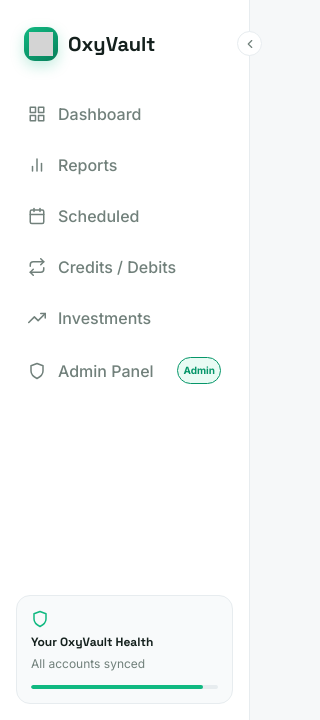
Sidebar › collapses to icons only and expands again
The image size is (320, 720).
Click the button named "Collapse sidebar" at (250, 44), box top-left (237, 31), bottom-right (262, 56)
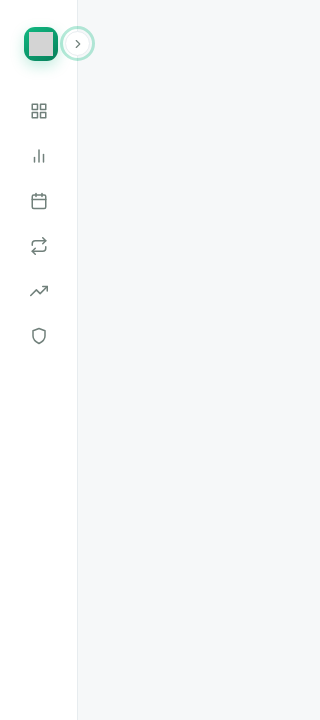
Expected: the link named "Dashboard" is shown, top-left (30, 102), bottom-right (48, 120)
Expected: the text "Vault Health" is gone
Expected: the text "Dashboard" is gone
Click the button named "Expand sidebar" at (78, 44), box top-left (65, 31), bottom-right (90, 56)
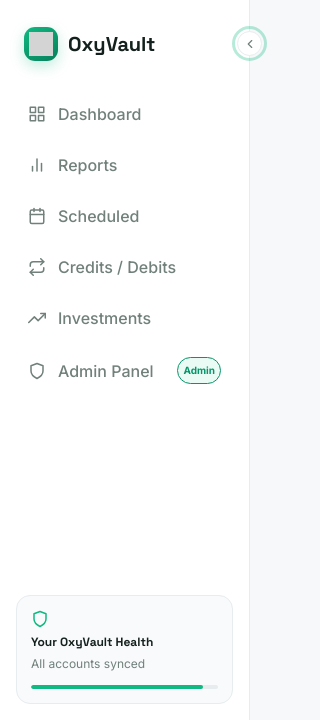
Expected: the text "Your OxyVault Health" is shown, top-left (31, 634), bottom-right (153, 650)
